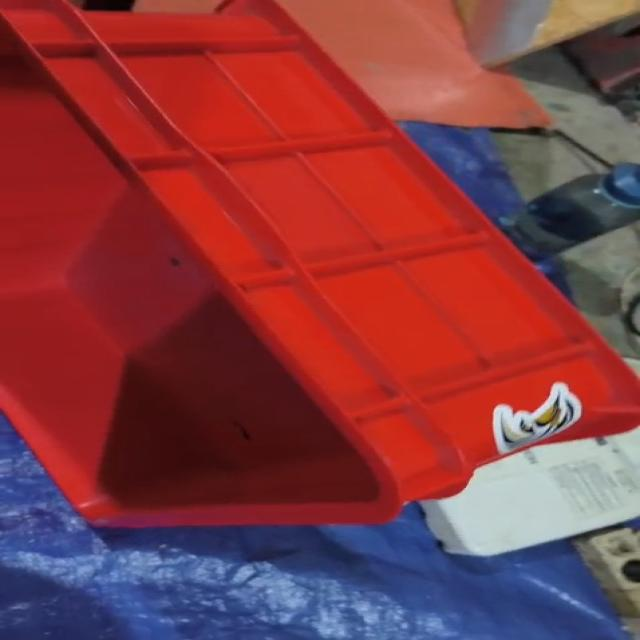red plastic box: (0, 0, 639, 529)
